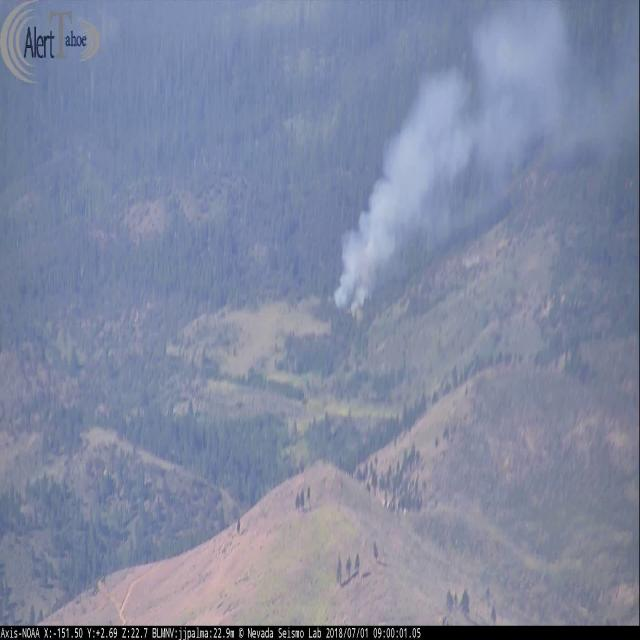smoke: (331, 0, 640, 318)
